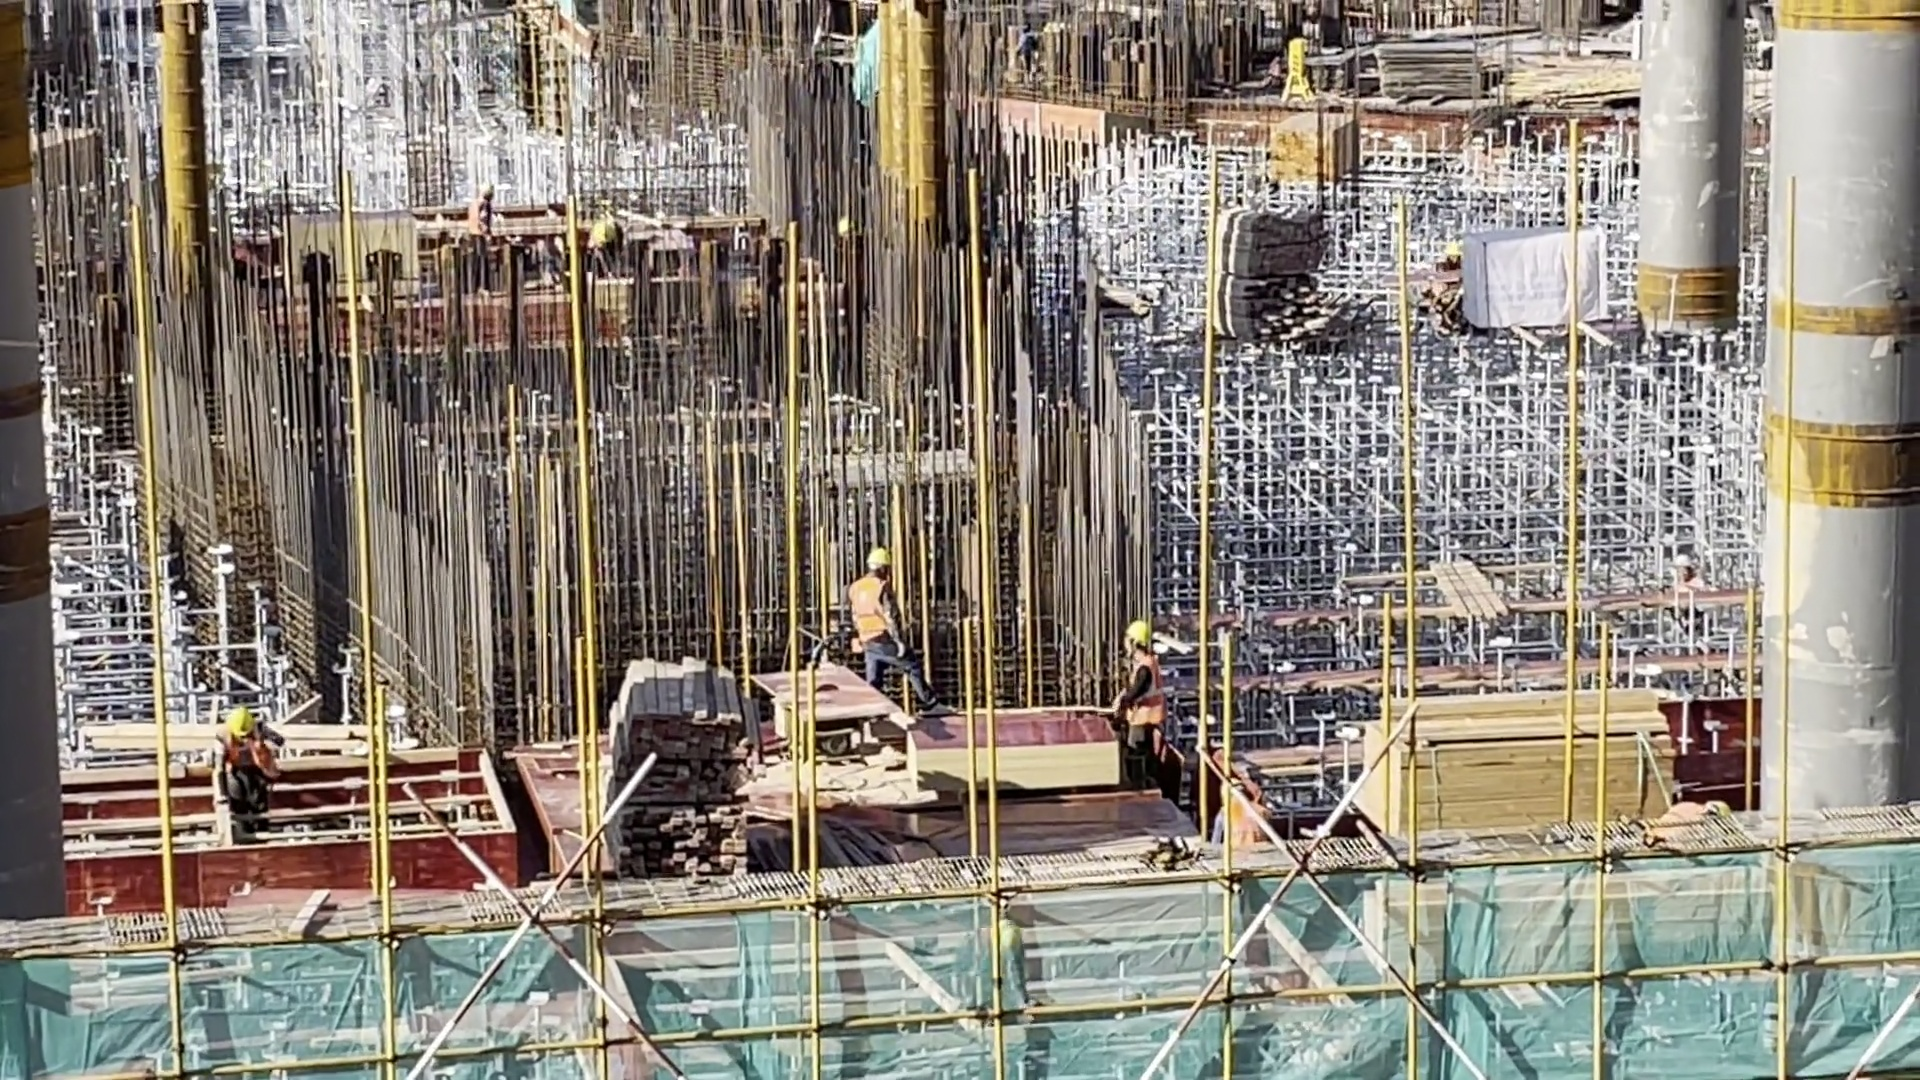board: (900, 708, 1125, 806)
ebox: (1280, 34, 1317, 100)
helmet: (219, 706, 253, 738), (1121, 617, 1154, 650), (862, 549, 893, 567)
person: (845, 548, 951, 715), (1115, 617, 1175, 790), (206, 708, 288, 813)
vest: (847, 576, 896, 645), (1126, 656, 1163, 730)
wood: (1358, 685, 1688, 831), (608, 656, 755, 889), (1259, 108, 1321, 191)
